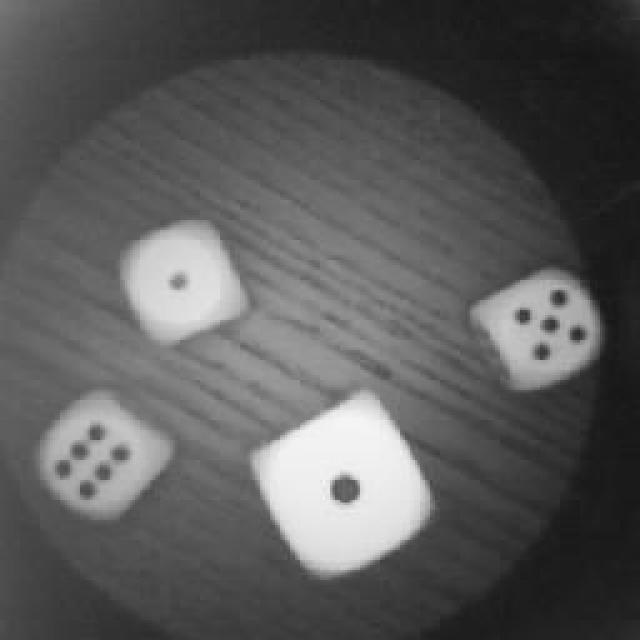dice_1: (250, 390, 435, 585), (118, 217, 248, 345)
dice_5: (475, 265, 605, 395)
dice_6: (38, 395, 172, 527)
